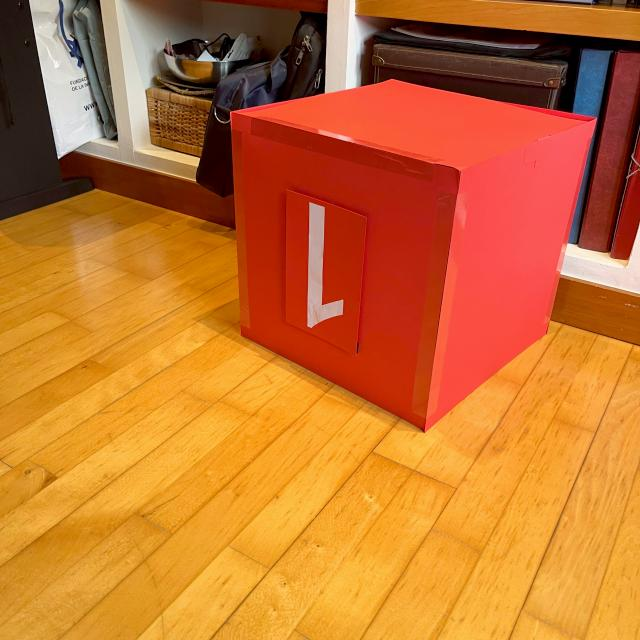box: (224, 75, 598, 434)
